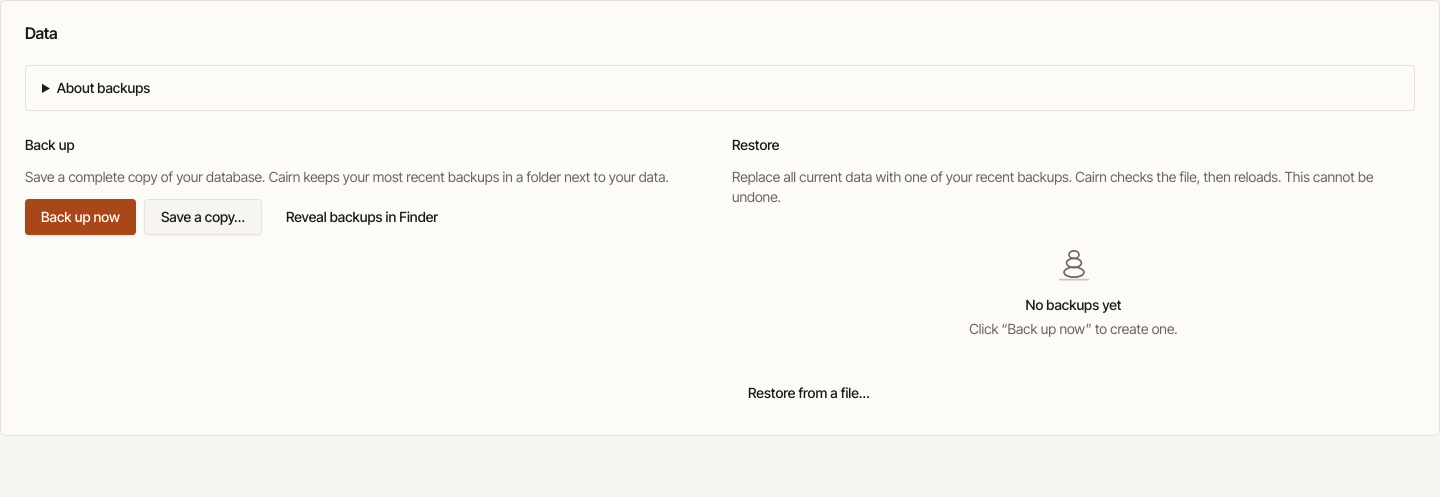
DataSection — desktop (Tauri) path › Back up now surfaces a failure message
Click the button "Back up now" at [80, 217], box [25, 199, 136, 235]
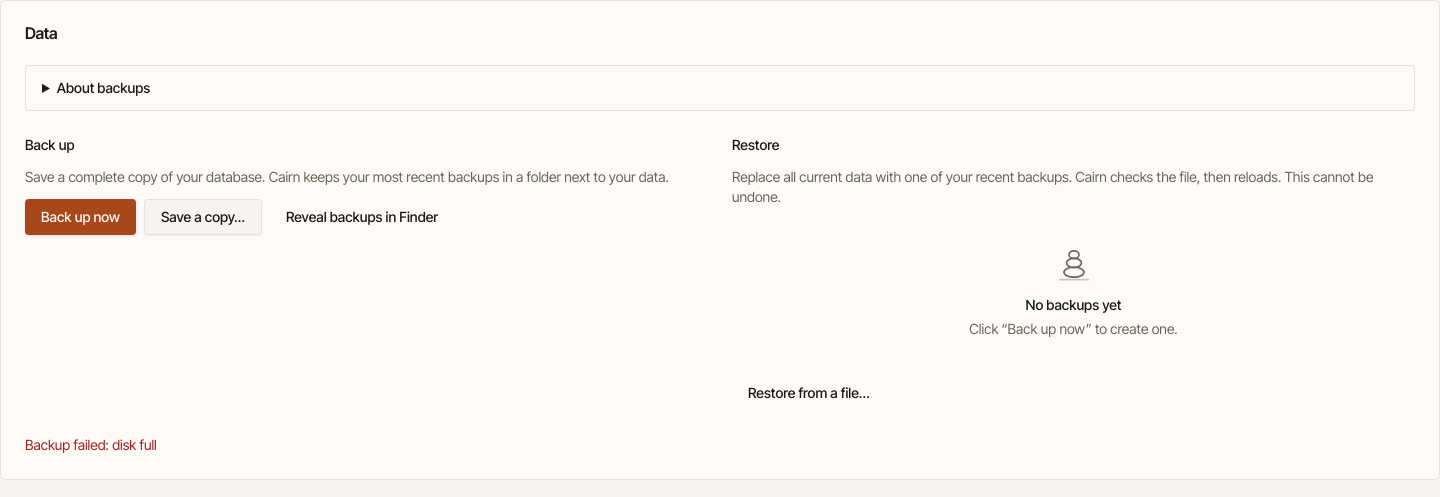
expect the text "Backup failed: disk full" is shown: met, box [25, 436, 157, 453]
